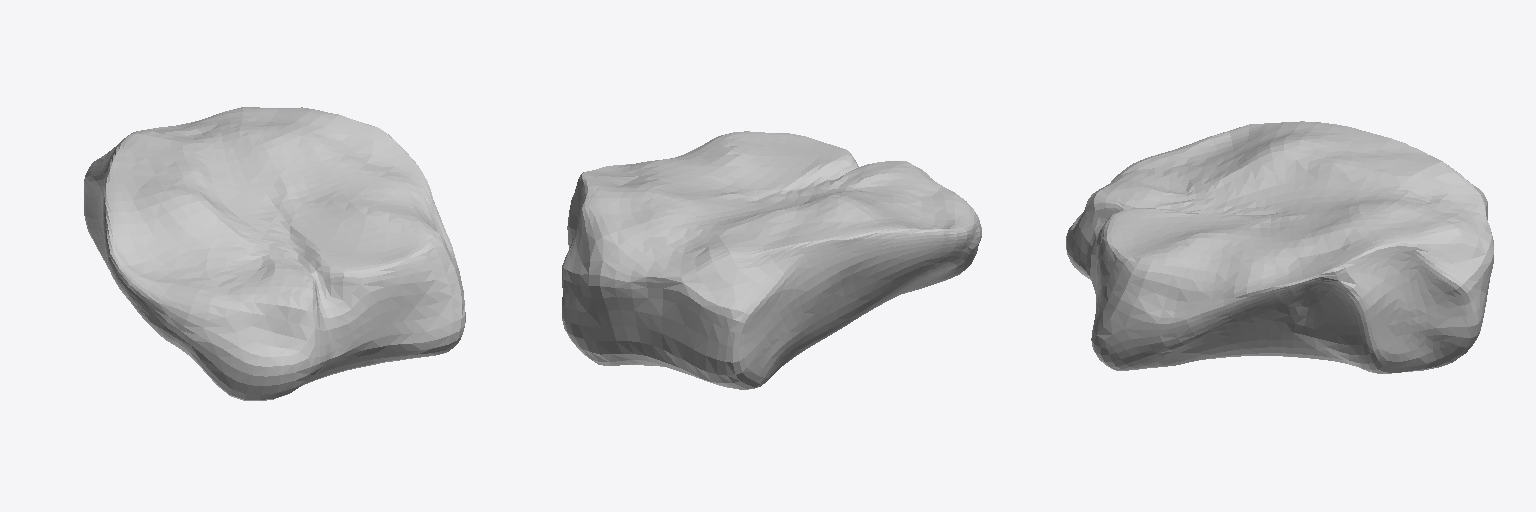
The model's file is stone.obj.
The picture shows the model from 3 angles: view 1: azimuth 30°, elevation 25°; view 2: azimuth 150°, elevation 25°; view 3: azimuth 270°, elevation 25°; orthographic projection.
Visible parts, largest first — view 1: tripo_node_2a6e507d-8e8f-4717-a330-670b9d29258d; view 2: tripo_node_2a6e507d-8e8f-4717-a330-670b9d29258d; view 3: tripo_node_2a6e507d-8e8f-4717-a330-670b9d29258d.
Part boxes in pixels (left/top/right/bottom): tripo_node_2a6e507d-8e8f-4717-a330-670b9d29258d: left=84, top=107, right=465, bottom=400; tripo_node_2a6e507d-8e8f-4717-a330-670b9d29258d: left=562, top=131, right=981, bottom=389; tripo_node_2a6e507d-8e8f-4717-a330-670b9d29258d: left=1066, top=121, right=1493, bottom=373.
Size of the model in its own units: 0.8831 by 0.3954 by 0.9981.